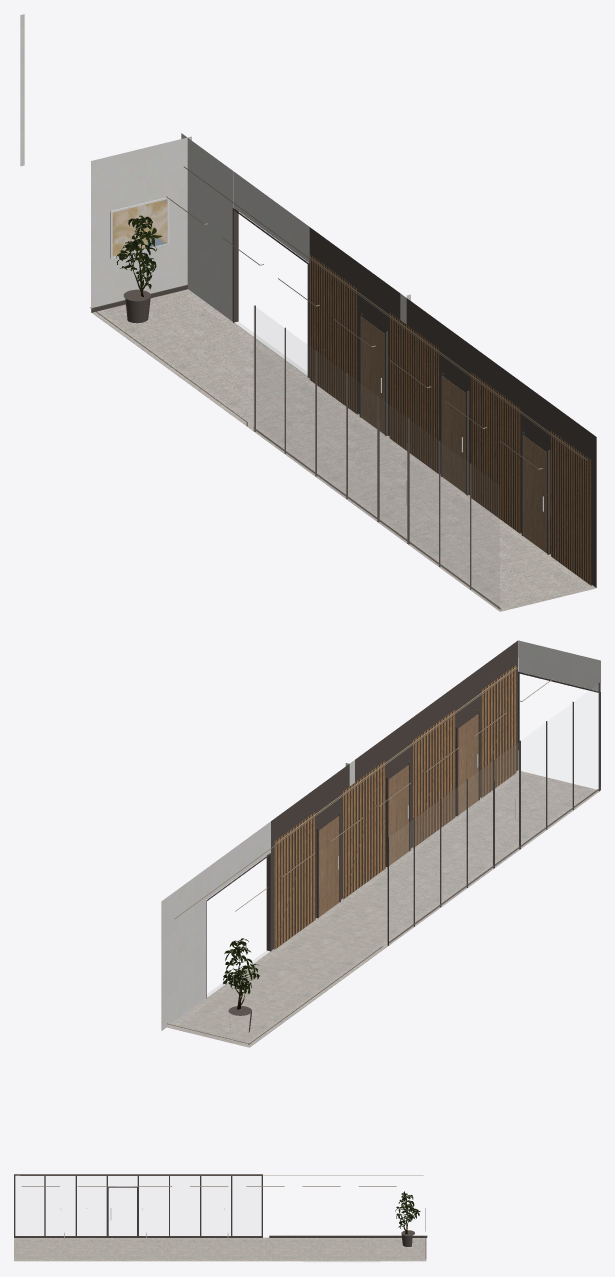
The model's file is z-corridor-lite.full.73f27d85.glb.
3 renders of one model, top to bottom at view 1: azimuth 30°, elevation 25°; view 2: azimuth 150°, elevation 25°; view 3: azimuth 270°, elevation 25°, orthographic. The views are drawn at different scales.
Visible parts, largest first — view 1: corridor_terrazzo, corridor_proxy_slat, corridor_plaster, corridor_satin, corridor_oak, corridor_art, corridor_emit, corridor_veg_atlas, corridor_metal_lit; view 2: corridor_terrazzo, corridor_proxy_slat, corridor_satin, corridor_plaster, corridor_oak, corridor_emit, corridor_veg_atlas; view 3: corridor_terrazzo, corridor_satin, corridor_emit, corridor_veg_atlas, corridor_metal_lit.
Part boxes in pixels (x1,y1,x2,y2): corridor_terrazzo: [91, 289, 595, 611]; corridor_proxy_slat: [309, 254, 591, 585]; corridor_plaster: [20, 14, 410, 324]; corridor_satin: [90, 208, 596, 609]; corridor_oak: [361, 317, 546, 553]; corridor_art: [112, 199, 167, 256]; corridor_emit: [166, 166, 587, 469]; corridor_veg_atlas: [116, 215, 162, 296]; corridor_metal_lit: [110, 197, 543, 511]; corridor_terrazzo: [167, 770, 600, 1047]; corridor_proxy_slat: [274, 665, 516, 949]; corridor_satin: [167, 640, 600, 1044]; corridor_plaster: [161, 640, 600, 1030]; corridor_oak: [319, 714, 478, 916]; corridor_emit: [174, 667, 554, 919]; corridor_veg_atlas: [223, 938, 259, 1009]; corridor_terrazzo: [14, 1237, 426, 1261]; corridor_satin: [14, 1174, 427, 1258]; corridor_emit: [20, 1175, 423, 1186]; corridor_veg_atlas: [395, 1191, 420, 1234]; corridor_metal_lit: [64, 1208, 425, 1262].
Size of the model in its own units: 2.3 by 3.35 by 23.
10 materials, 6 textured.
